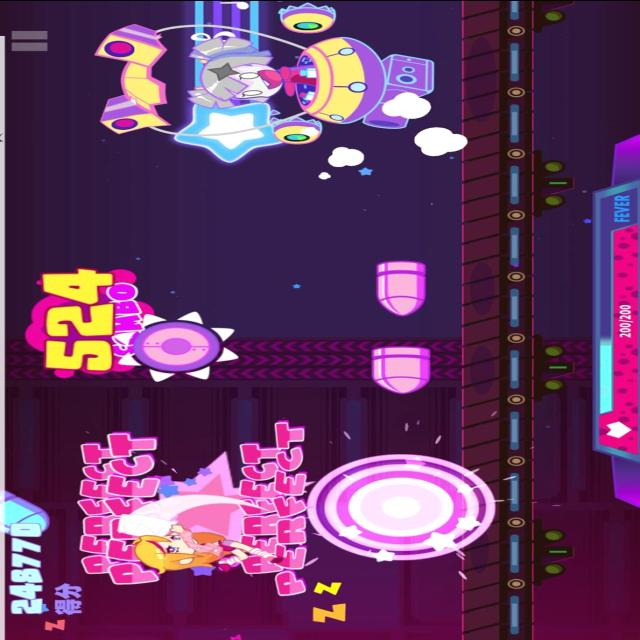ci: (113, 302, 240, 378)
hold: (169, 0, 280, 165)
jian: (358, 341, 438, 405), (364, 256, 429, 314)
qiangboss: (87, 0, 443, 145)
